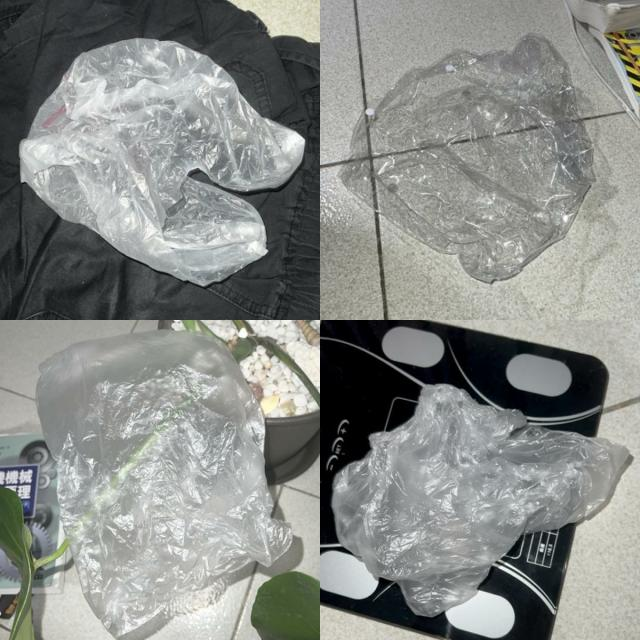Single-layer Plastic: (36, 331, 292, 637), (20, 39, 304, 286), (331, 384, 628, 617), (341, 35, 595, 282)
